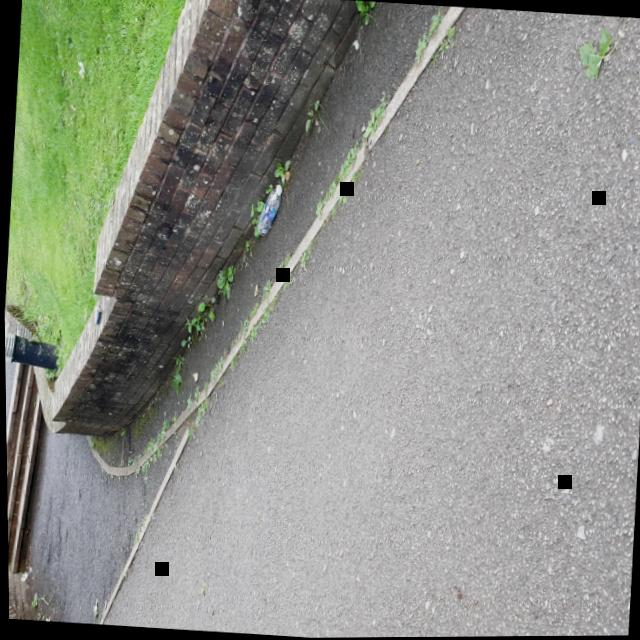Clear plastic bottle: (255, 184, 281, 236)
Other carton: (92, 303, 100, 323)
Plastic bottle cap: (276, 184, 281, 194)
